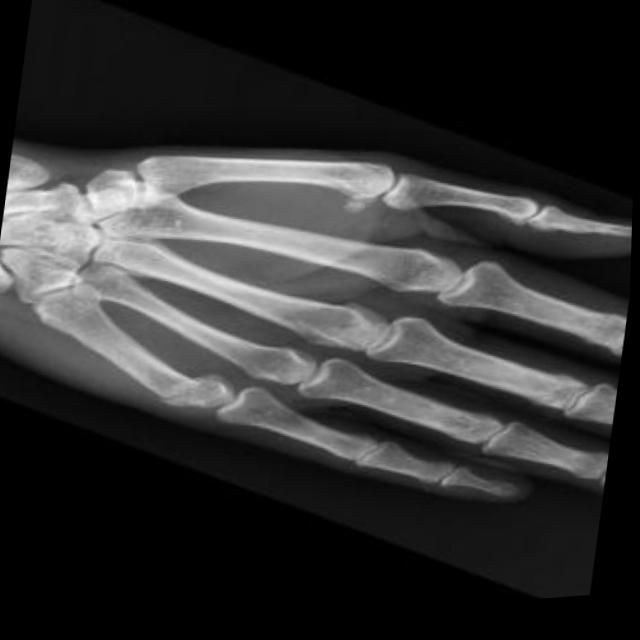fracture: (138, 360, 225, 419)
